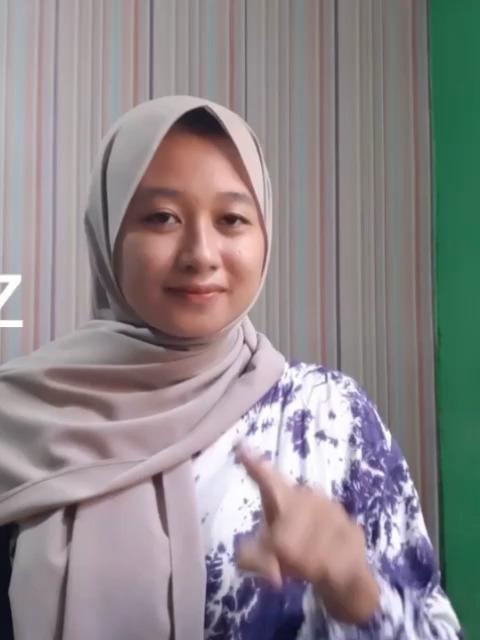Z: (229, 434, 371, 604)
